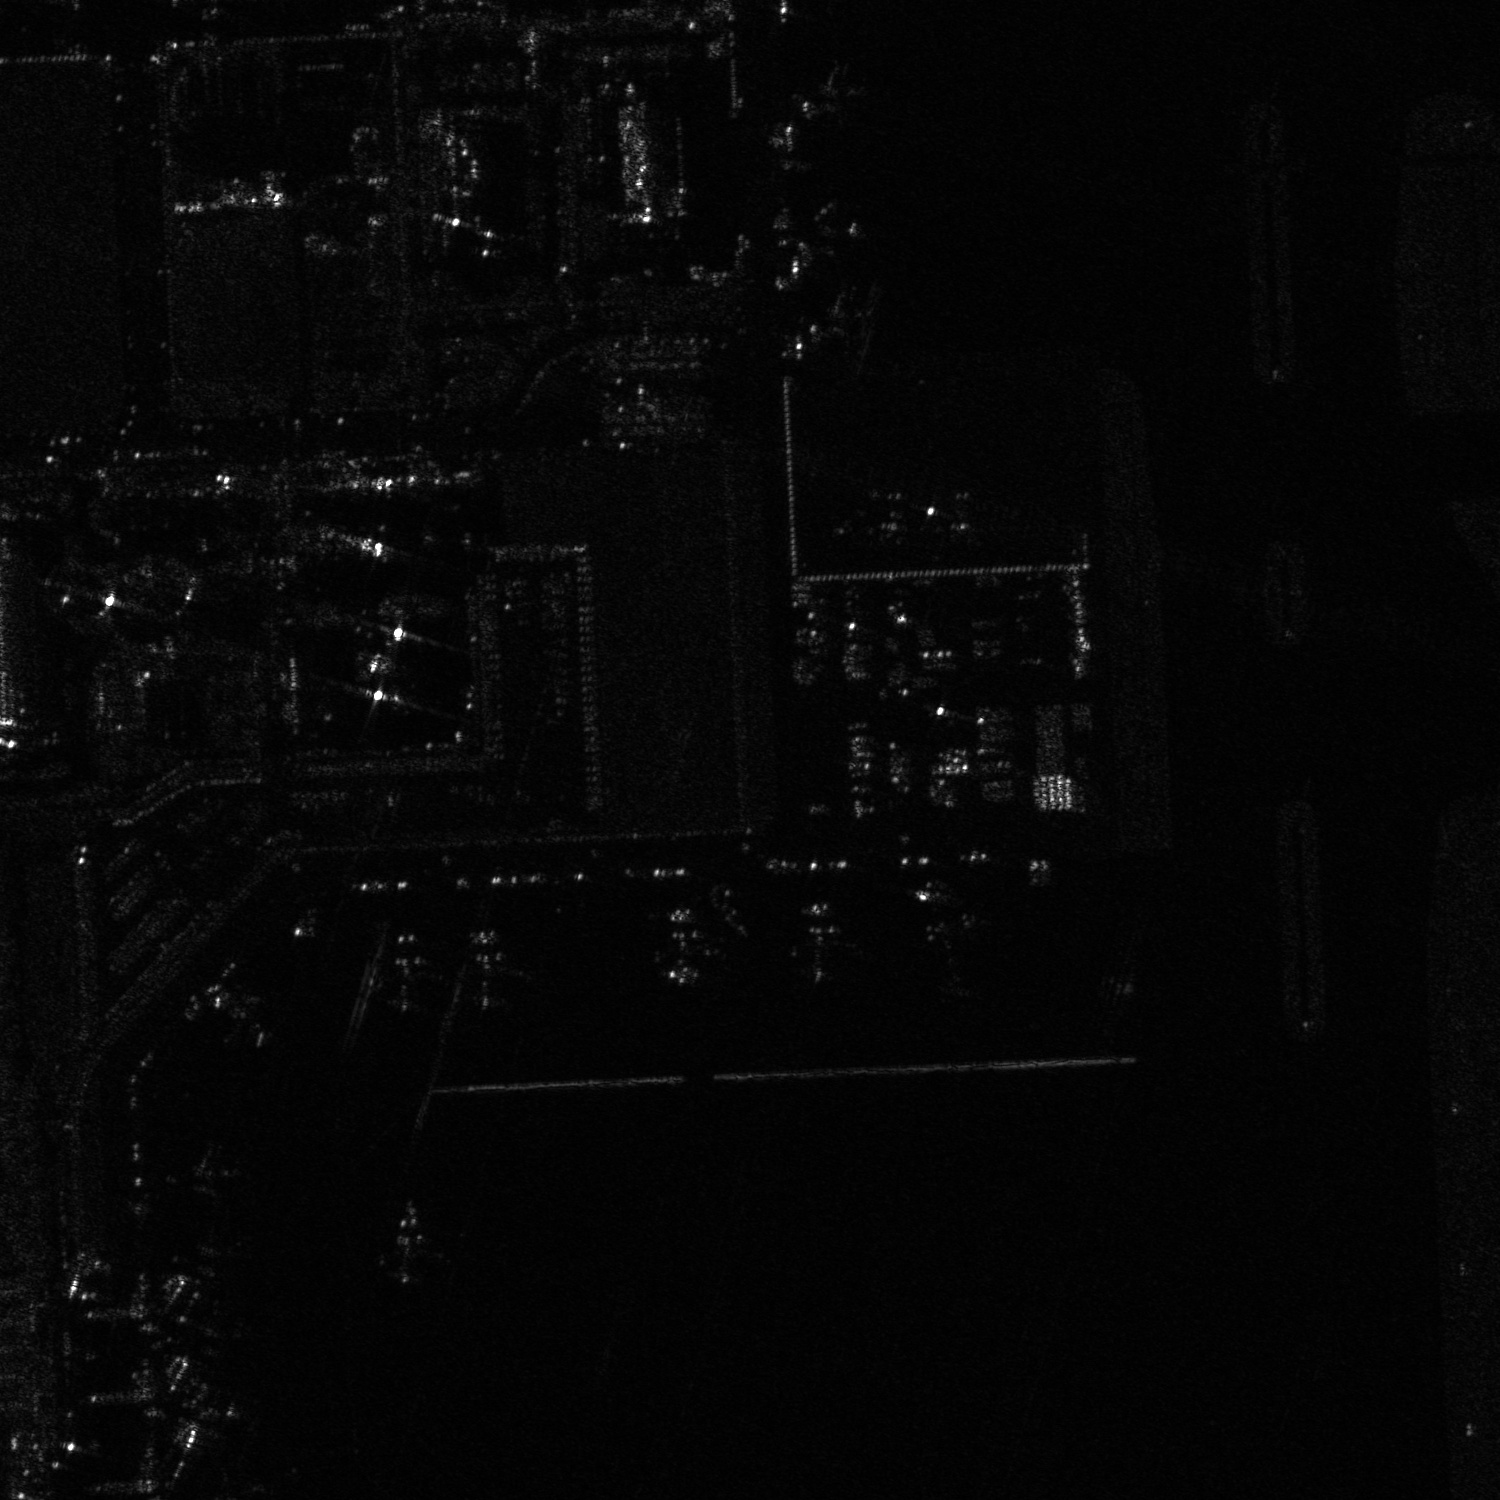A220: (779, 192, 878, 268), (157, 1141, 245, 1202), (212, 989, 279, 1049)
A320/321: (783, 60, 870, 124)
ARJ21: (868, 482, 918, 545)
Boeing737: (768, 891, 870, 990), (905, 876, 986, 988), (455, 918, 536, 1021), (360, 926, 446, 1016)
other: (368, 1199, 452, 1287), (646, 901, 728, 990), (804, 283, 885, 350), (934, 484, 995, 545)
